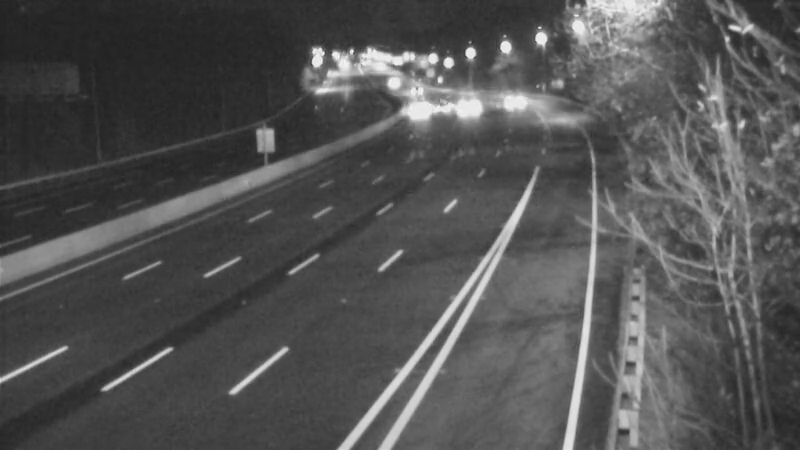vehicle: (367, 59, 417, 109), (387, 66, 437, 116), (485, 79, 535, 129), (443, 83, 493, 133), (419, 83, 469, 133), (390, 87, 440, 137)
